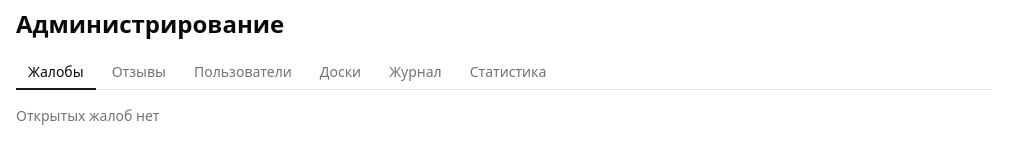
AdminStats › tells when the statistics do not load
The image size is (1009, 160).
Click the tab "Статистика".
click(508, 73)  # box x1=458 y1=56 x2=558 y2=90
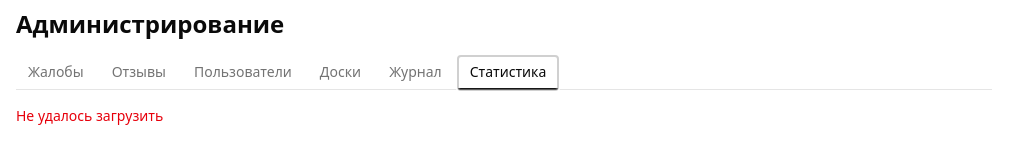
Now the message reads "Не удалось загрузить", box x1=16 y1=106 x2=163 y2=125
